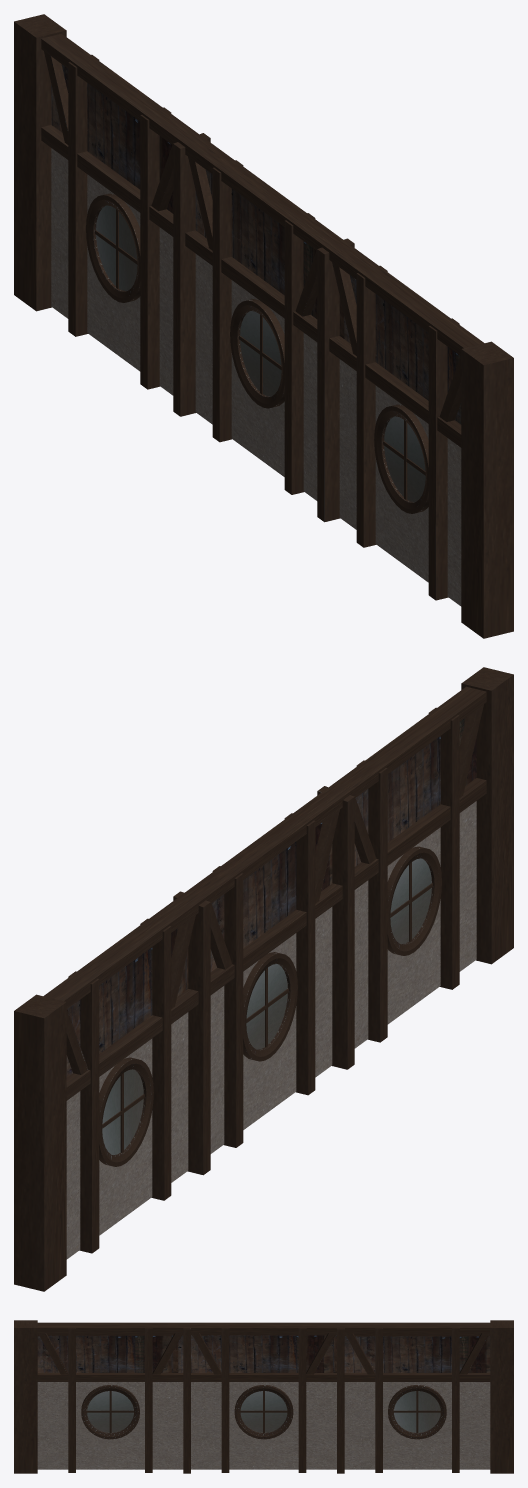
Rendered from OutdoorArchitecture_SingleObjects_TavernWindowWall_BShortt.fbx.
3 views of the same model, one above another, from view 1: azimuth 30°, elevation 25°; view 2: azimuth 150°, elevation 25°; view 3: azimuth 270°, elevation 25° (orthographic). The views are drawn at different scales.
Visible parts, largest first — view 1: OutdoorArchitecture_SingleObjects_TavernWindowWall_BShortt; view 2: OutdoorArchitecture_SingleObjects_TavernWindowWall_BShortt; view 3: OutdoorArchitecture_SingleObjects_TavernWindowWall_BShortt.
Boxes of the visible parts, x1,y1,x2,y2 form: OutdoorArchitecture_SingleObjects_TavernWindowWall_BShortt: (14,14,513,638); OutdoorArchitecture_SingleObjects_TavernWindowWall_BShortt: (14,667,513,1291); OutdoorArchitecture_SingleObjects_TavernWindowWall_BShortt: (14,1320,513,1473).
Bounding box in the file's own units: 36.37 × 314 × 978.
1 material, 1 textured.
